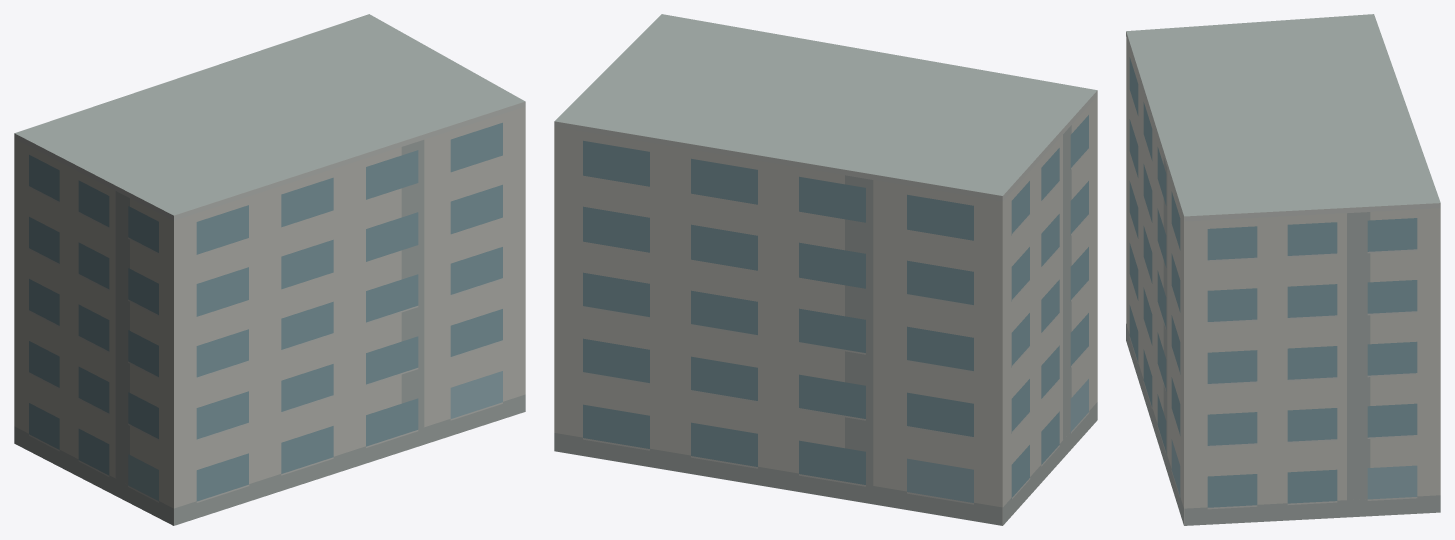
Rendered from survey-upis-32576242.glb.
3 renders of one model, left to right at view 1: azimuth 30°, elevation 25°; view 2: azimuth 150°, elevation 25°; view 3: azimuth 270°, elevation 25°, orthographic. The views are drawn at different scales.
Parts seen in each view (by area): view 1: survey-upis-32576242.tmp; view 2: survey-upis-32576242.tmp; view 3: survey-upis-32576242.tmp.
Part boxes in pixels (x1,y1,x2,y2): survey-upis-32576242.tmp: (14,14,525,525); survey-upis-32576242.tmp: (554,14,1097,525); survey-upis-32576242.tmp: (1126,14,1440,525).
Bounding box in the file's own units: 20.14 × 14.35 × 13.23.
